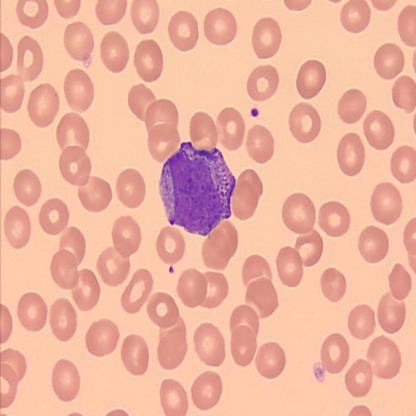Myelocyte: (158, 138, 235, 237)
